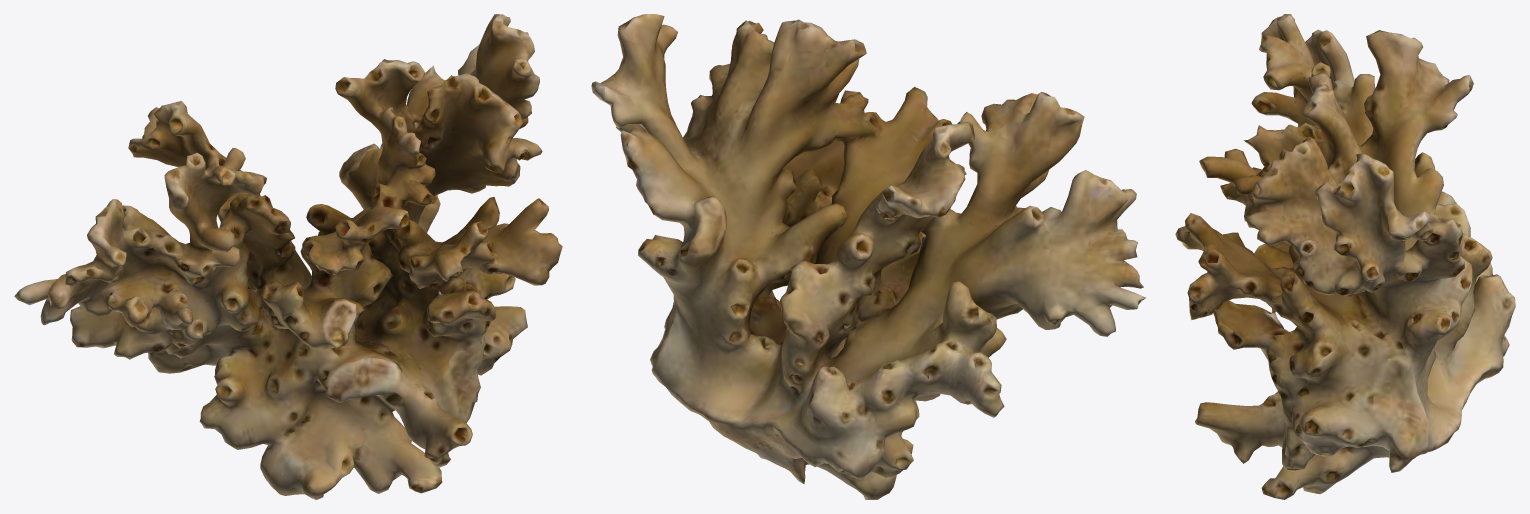
Rendered from turbinaria.glb.
The picture shows the model from 3 angles, left to right: view 1: azimuth 30°, elevation 25°; view 2: azimuth 150°, elevation 25°; view 3: azimuth 270°, elevation 25°; orthographic projection. The views are drawn at different scales.
Size of the model in its own units: 0.1472 by 0.1167 by 0.0871.
1 material, 1 textured.
